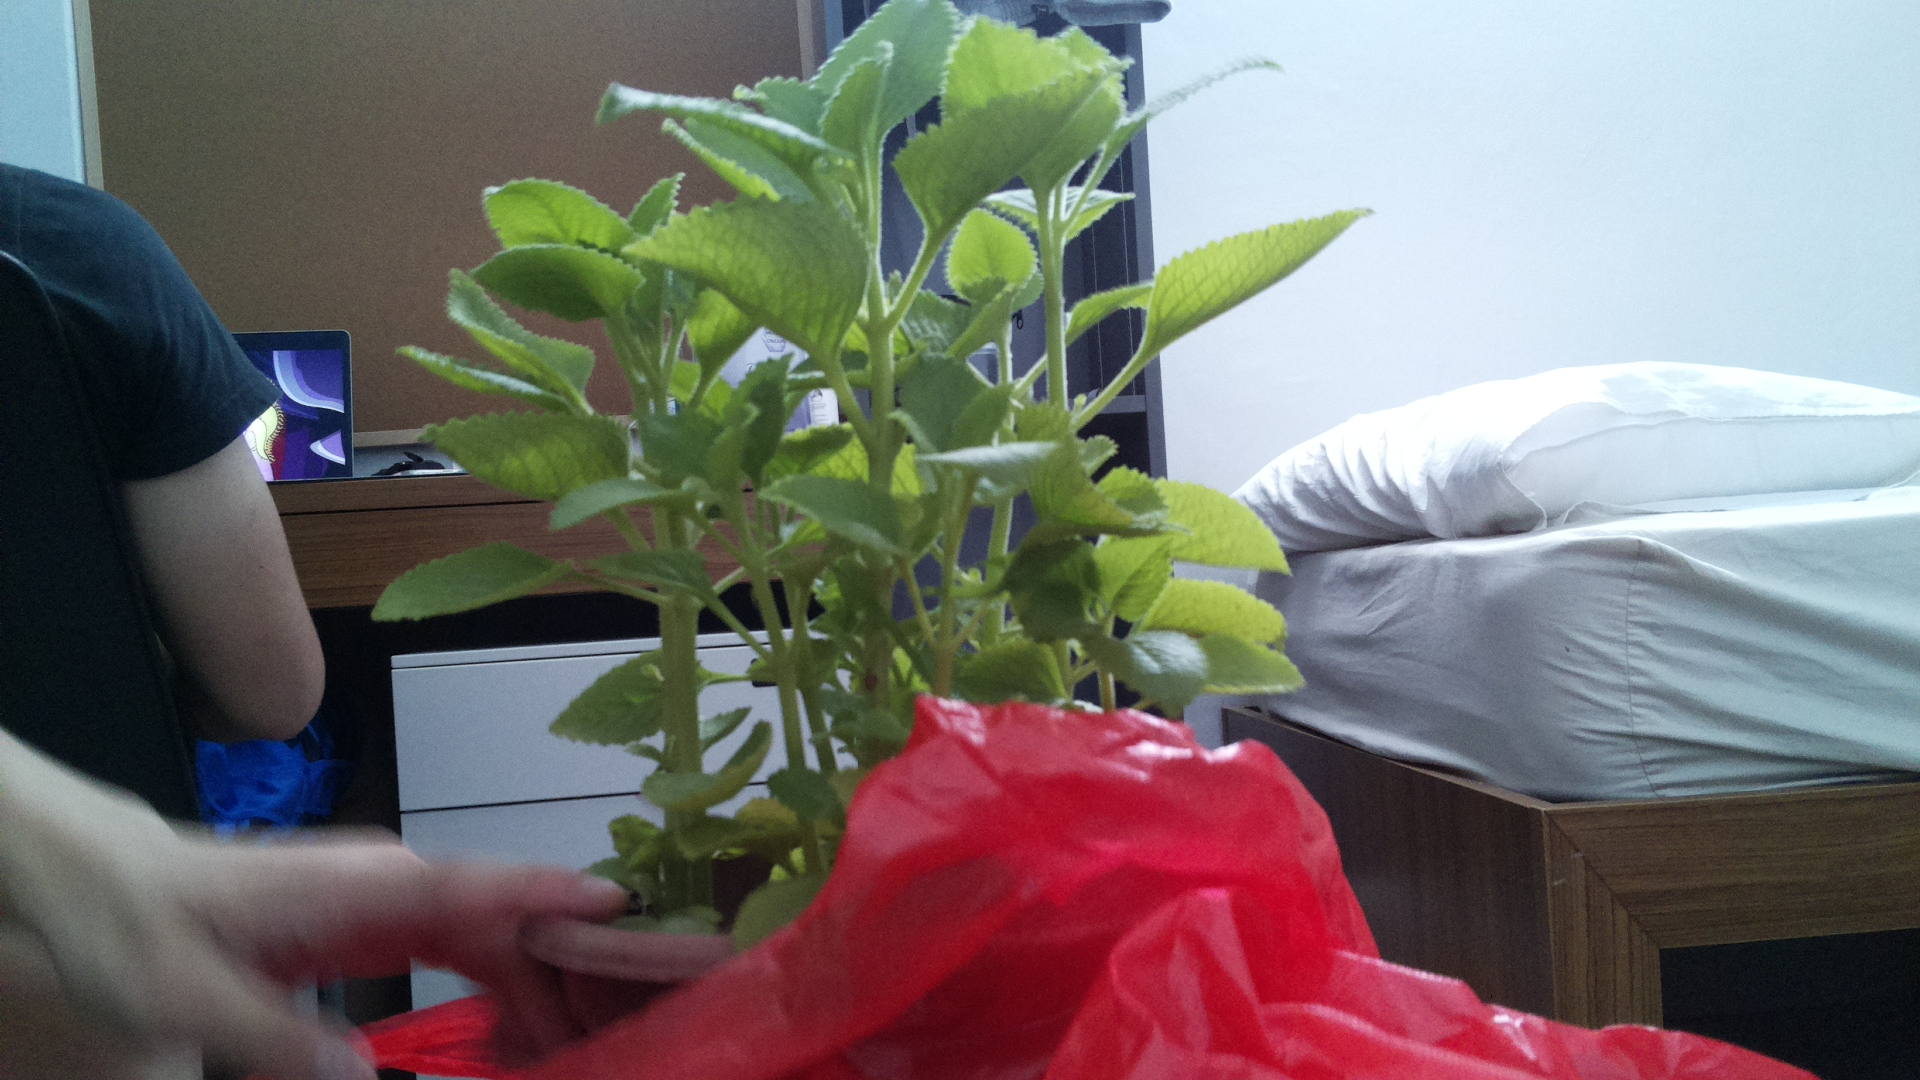leaf: (612, 183, 876, 373), (1131, 186, 1379, 373), (887, 61, 1124, 247), (427, 261, 597, 405), (425, 406, 644, 505), (363, 542, 576, 629), (1145, 467, 1294, 579), (545, 653, 698, 746), (480, 167, 637, 258), (948, 7, 1077, 115), (760, 483, 944, 558), (386, 335, 567, 406), (640, 721, 773, 818), (1093, 626, 1209, 717), (891, 345, 996, 442), (940, 206, 1039, 302), (814, 46, 884, 146), (959, 640, 1071, 702), (1091, 541, 1175, 617), (605, 550, 723, 603), (1064, 278, 1155, 345), (699, 411, 756, 487)
